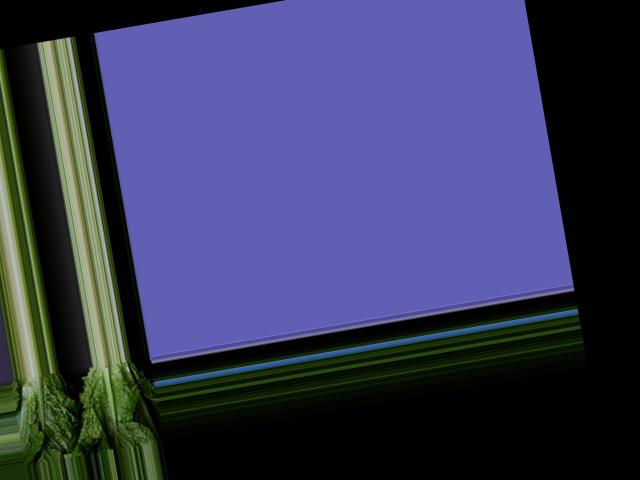lettuce: (13, 369, 82, 460)
